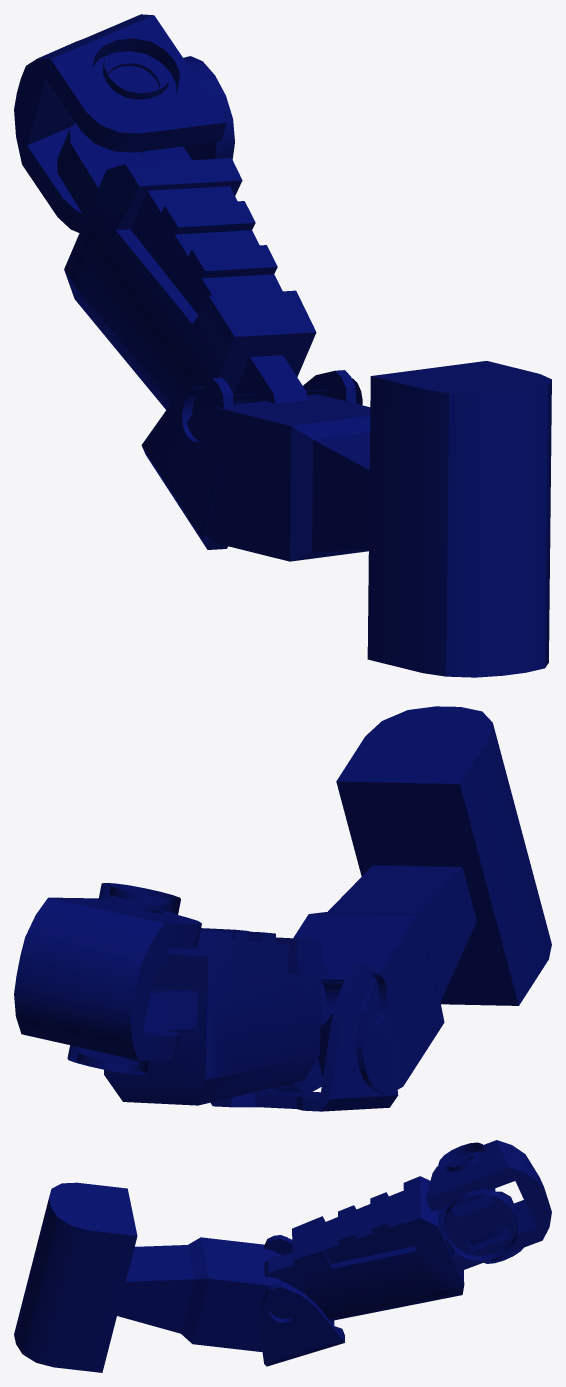
File: Another_Arm_Pedro.fbx
The picture shows the model from 3 angles, top to bottom: view 1: azimuth 30°, elevation 25°; view 2: azimuth 150°, elevation 25°; view 3: azimuth 270°, elevation 25°; orthographic projection. The views are drawn at different scales.
Visible parts, largest first — view 1: AnotherArm; view 2: AnotherArm; view 3: AnotherArm.
Part boxes in pixels (bbox=[...]): AnotherArm: bbox=[14, 14, 551, 677]; AnotherArm: bbox=[14, 706, 551, 1111]; AnotherArm: bbox=[14, 1140, 551, 1372].
Bounding box in the file's own units: 84.32 × 158 × 359.
